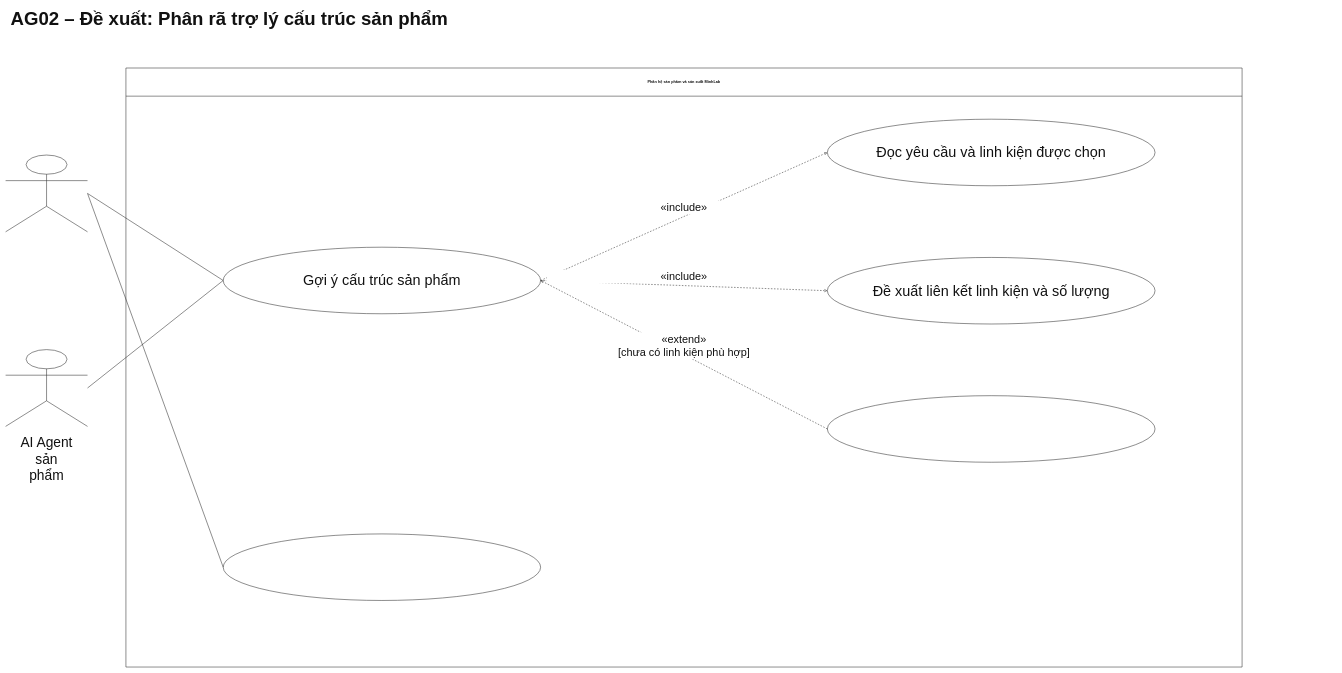
Image size: 1342x673. Some labels were removed from this diagram. The shapes that lost their labels are listed below. From the top down, each one's centre as x and y in pixels, then its label:
At point (46, 193): "Người soạn sản phẩm".
At point (991, 428): "Đề nghị khai báo linh kiện mới".
At point (382, 567): "Xác nhận cấu trúc và lưu nháp".
